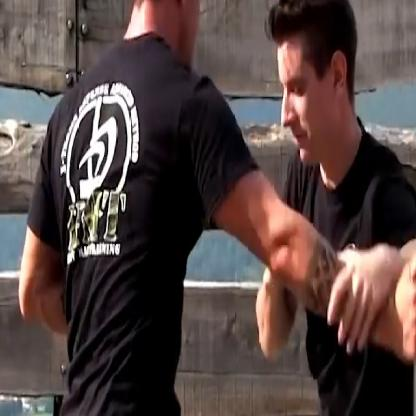knife: (402, 250, 416, 414)
